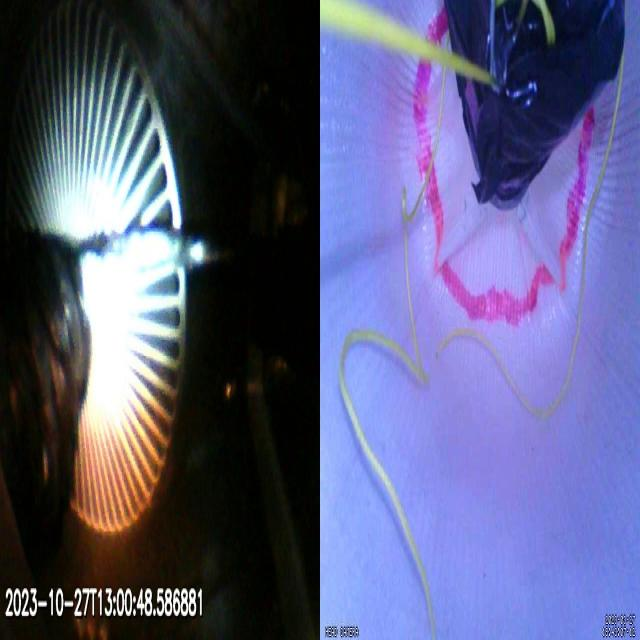red-circle: (414, 9, 596, 324)
